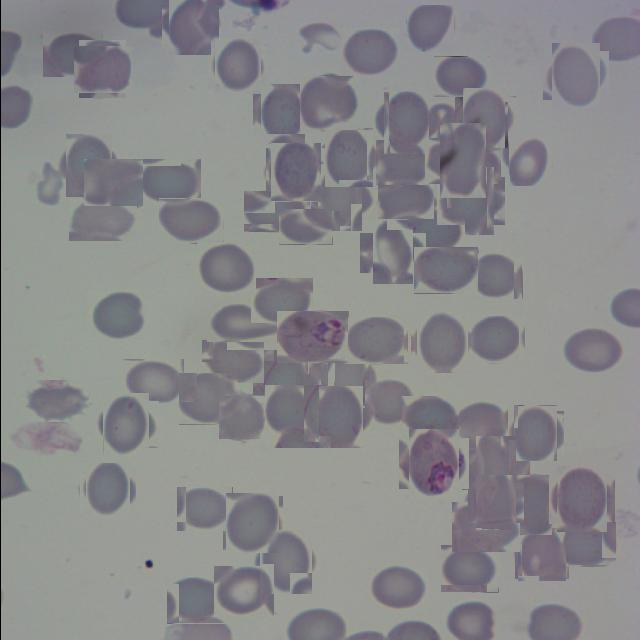leukocyte: (263, 385, 326, 447), (432, 130, 492, 192), (255, 533, 314, 591), (552, 469, 610, 528), (451, 502, 519, 552), (546, 46, 604, 104), (441, 172, 498, 230), (412, 314, 470, 371), (223, 494, 280, 552), (300, 74, 358, 131), (258, 355, 314, 412), (194, 242, 254, 295), (311, 170, 367, 226), (178, 373, 238, 425), (344, 317, 408, 365), (413, 247, 478, 294), (98, 397, 153, 452), (61, 138, 116, 193), (378, 94, 432, 150), (400, 208, 464, 255), (213, 566, 273, 616), (158, 198, 223, 244), (562, 326, 624, 374), (267, 146, 322, 200), (68, 199, 137, 242), (138, 159, 201, 206), (502, 475, 551, 535), (468, 443, 522, 497), (321, 131, 375, 185), (340, 28, 399, 77), (206, 304, 282, 342), (83, 159, 143, 207), (313, 390, 366, 444), (554, 522, 616, 568), (120, 359, 182, 405), (367, 564, 427, 611), (166, 577, 226, 624), (365, 227, 418, 280), (458, 92, 511, 145), (88, 290, 144, 340), (250, 278, 312, 323), (440, 545, 498, 593), (201, 340, 264, 384), (42, 31, 102, 77), (256, 87, 308, 140), (453, 401, 507, 452), (243, 191, 310, 232), (467, 316, 524, 364), (210, 40, 262, 92), (76, 43, 128, 95), (24, 380, 88, 422), (164, 1, 214, 52), (176, 487, 232, 532), (510, 408, 560, 458), (82, 466, 132, 516), (516, 530, 566, 580), (322, 354, 372, 404), (401, 396, 458, 439), (470, 253, 522, 300), (375, 138, 428, 184), (433, 56, 489, 98), (405, 5, 453, 52), (471, 479, 518, 527), (364, 380, 415, 424), (377, 180, 433, 219), (506, 138, 552, 184), (218, 396, 264, 440), (278, 209, 332, 245)
schizont: (276, 311, 348, 364), (403, 434, 463, 494)
